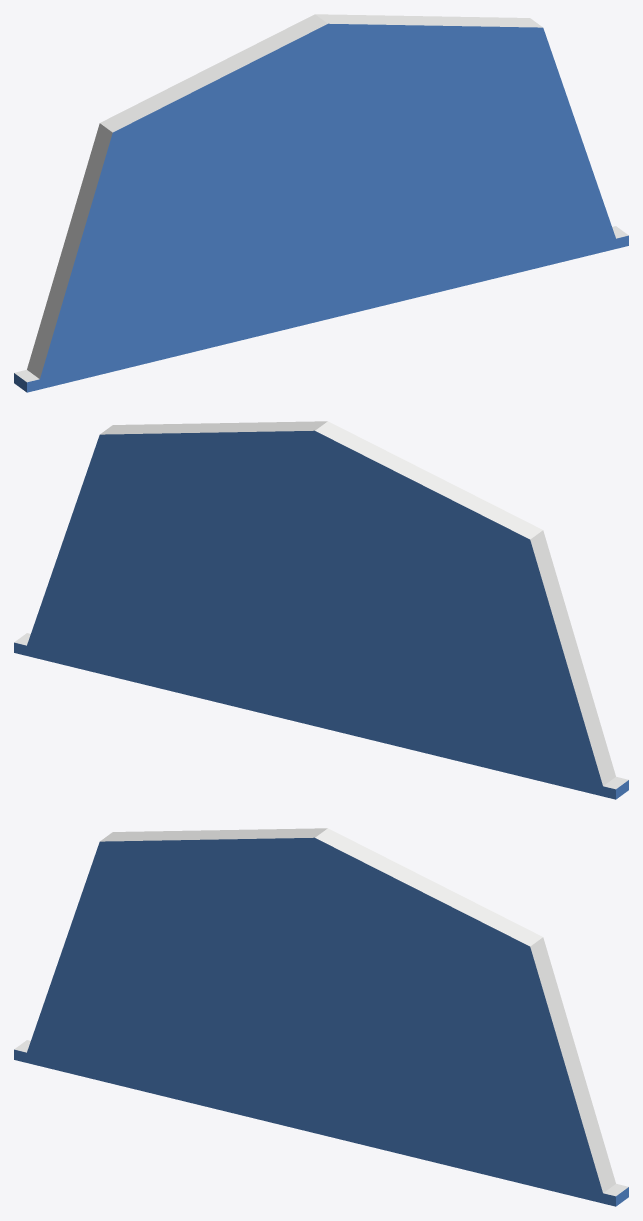
Rendered from telhado_mansarda_oitao_v4.glb.
3 views of the same model, one above another, from view 1: azimuth 30°, elevation 25°; view 2: azimuth 150°, elevation 25°; view 3: azimuth 330°, elevation 25° (orthographic).
Parts seen in each view (by area): view 1: telhado_mansarda_oitao_v4; view 2: telhado_mansarda_oitao_v4; view 3: telhado_mansarda_oitao_v4.
Part boxes in pixels (left/top/right/bottom): telhado_mansarda_oitao_v4: left=14, top=14, right=628, bottom=392; telhado_mansarda_oitao_v4: left=14, top=421, right=628, bottom=799; telhado_mansarda_oitao_v4: left=14, top=828, right=628, bottom=1206.
Bounding box in the file's own units: 4 × 1.88 × 0.15.
